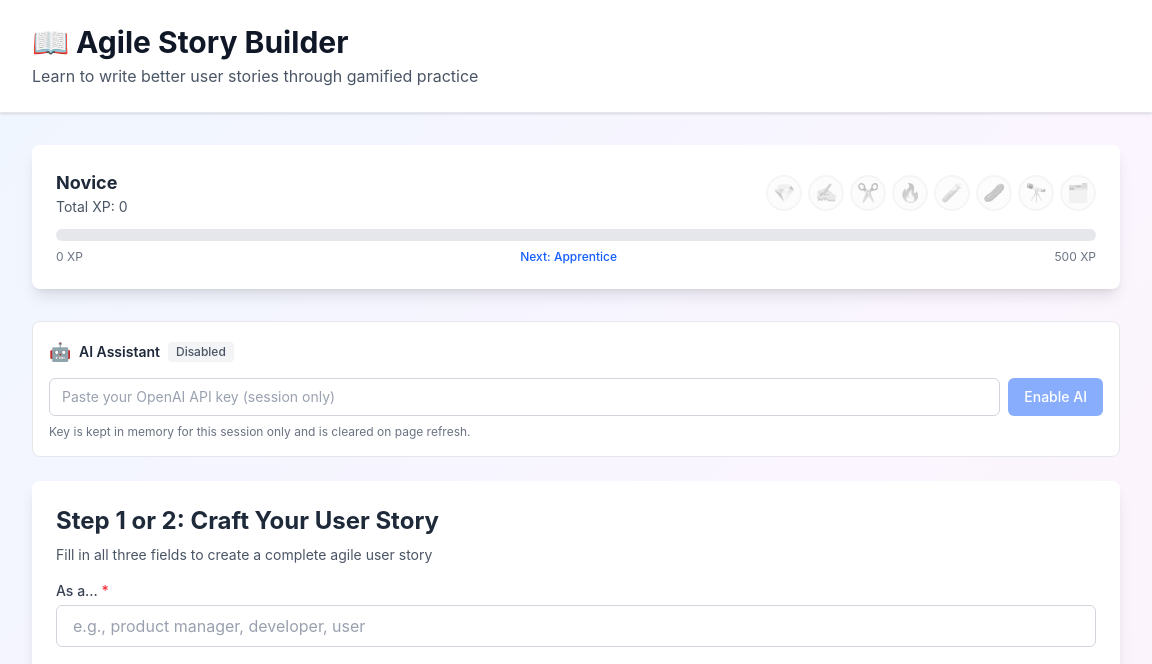
it: AI gating › AI enables after entering test-key and clicking Enable AI
The image size is (1152, 664).
In the password field labelled "Paste your OpenAI API key (session only)": (525, 397) x1=49 y1=378 x2=1000 y2=416, type "test-key"
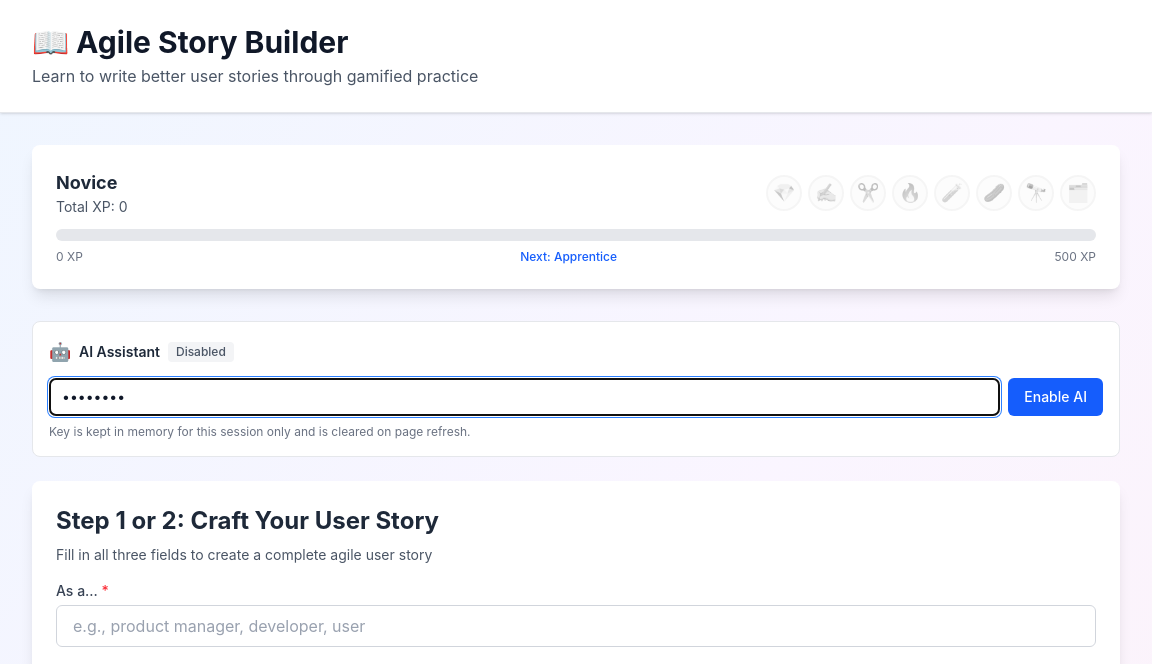
Click the button "Enable AI": (1056, 397) x1=1008 y1=378 x2=1103 y2=416
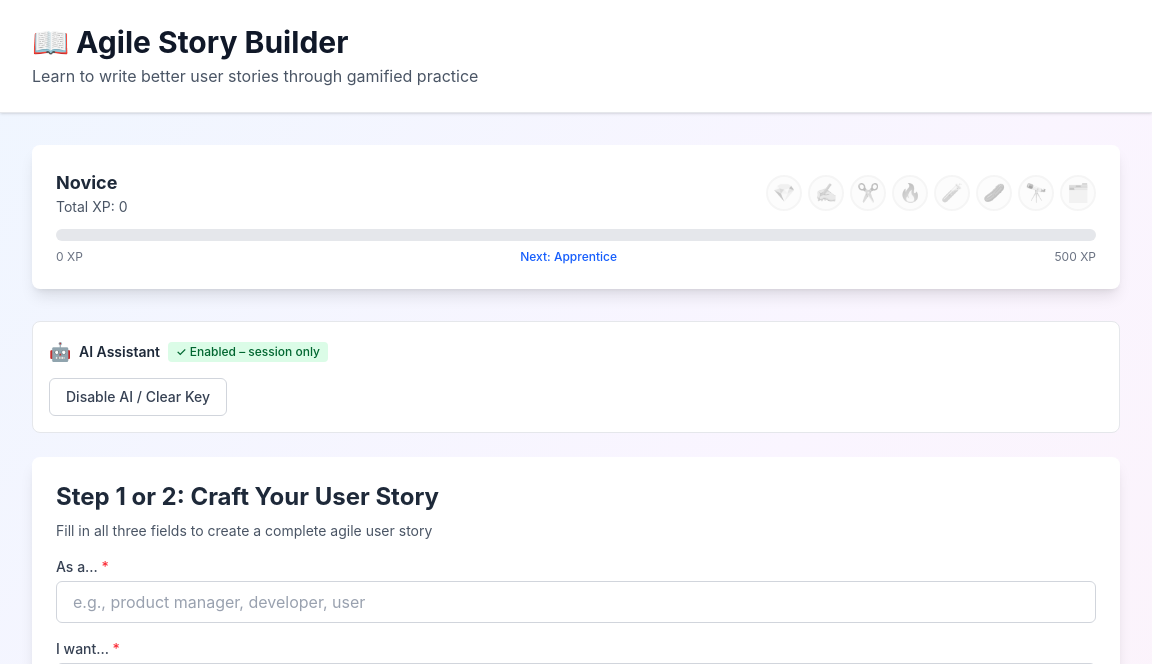
Now the text "✓ Enabled – session only" is shown, box x1=168 y1=342 x2=328 y2=362
Now the button "Disable AI / Clear Key" is shown, box x1=49 y1=378 x2=227 y2=416
